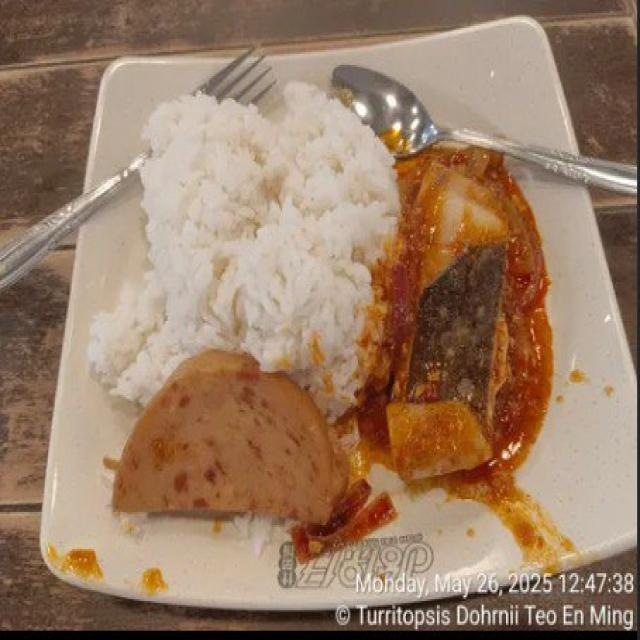Fish: (389, 247, 505, 477)
Pork: (113, 351, 350, 525)
Rice: (90, 83, 399, 414)
